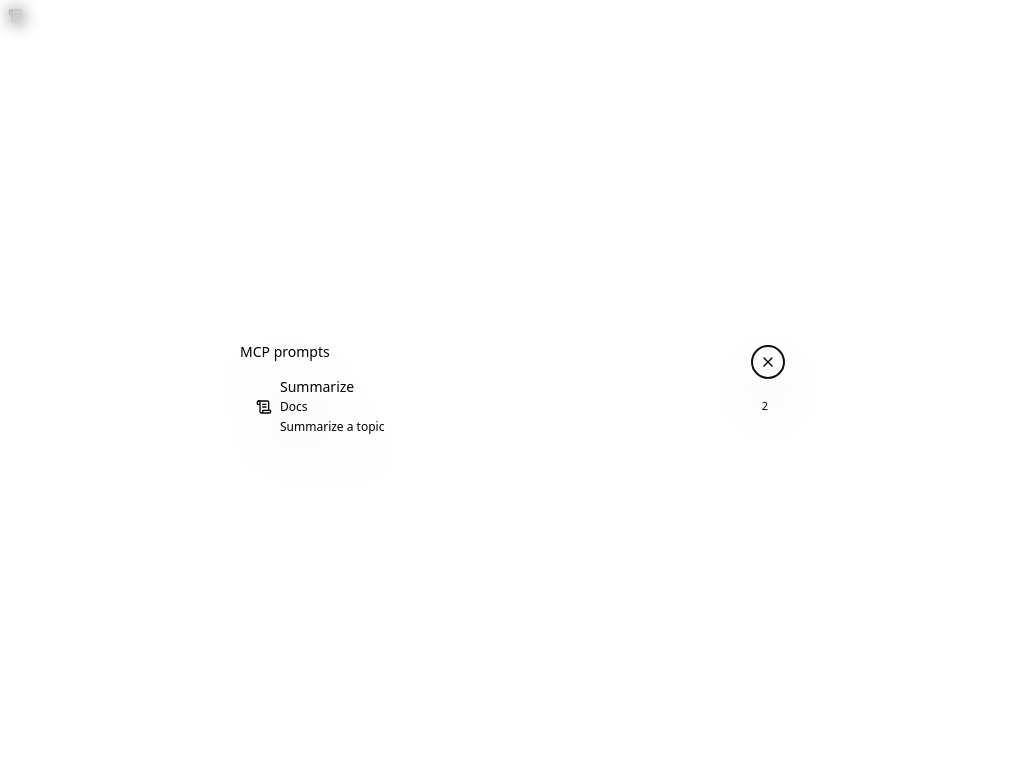
Test: MCP picker workflows › reports prompt resolution network failures without losing arguments
This screenshot has width=1024, height=768.
Step 1. Click the button "Summarize Docs Summarize a topic 2" → (264, 407), box [232, 382, 792, 430]
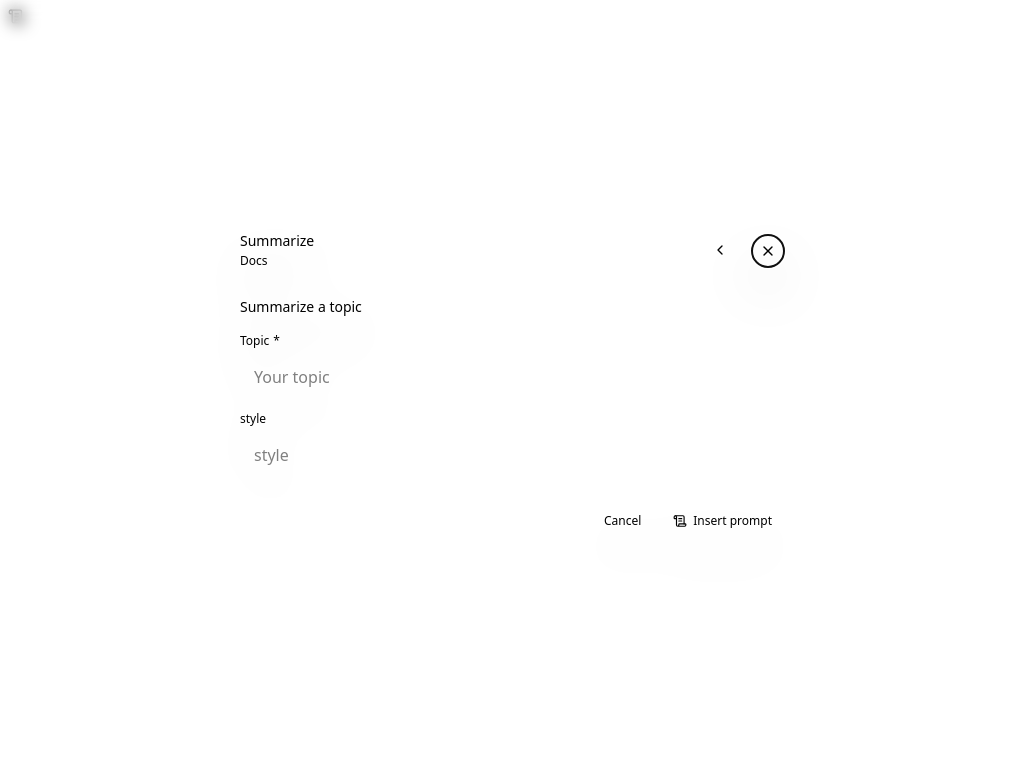
Step 2. Type "keep me" into the field labelled "Topic *" → (512, 377), box [240, 355, 784, 399]
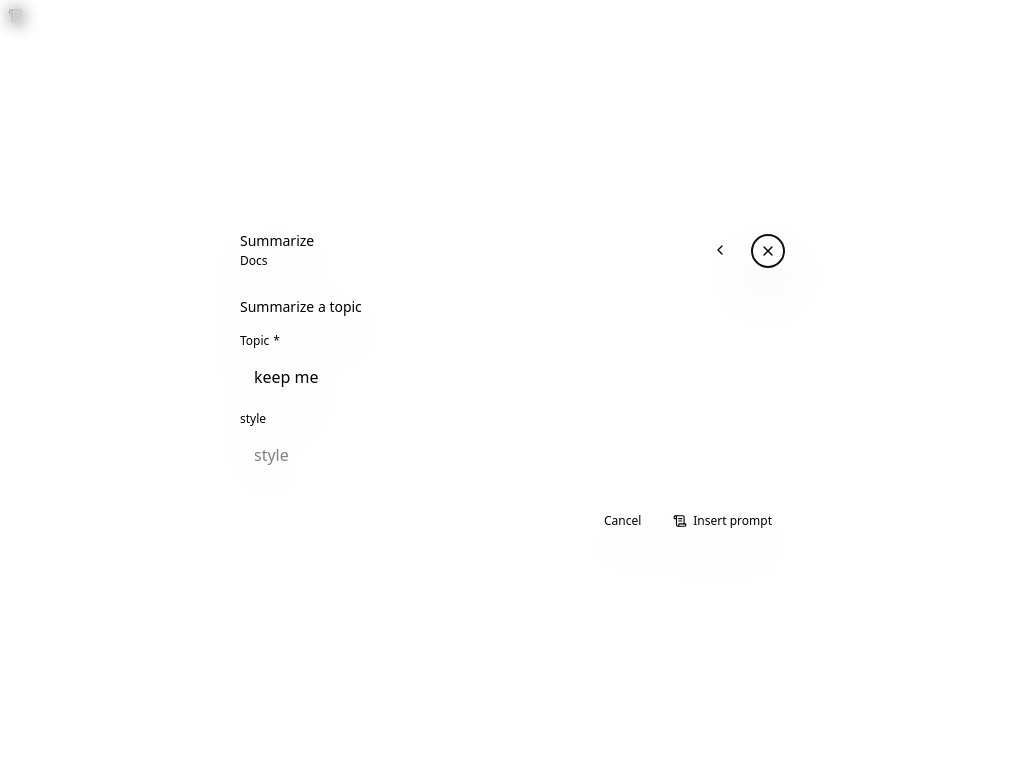
Step 3. Submit the form labelled "Summarize a topic Topic * style Cancel Insert prompt", box [224, 281, 800, 549]
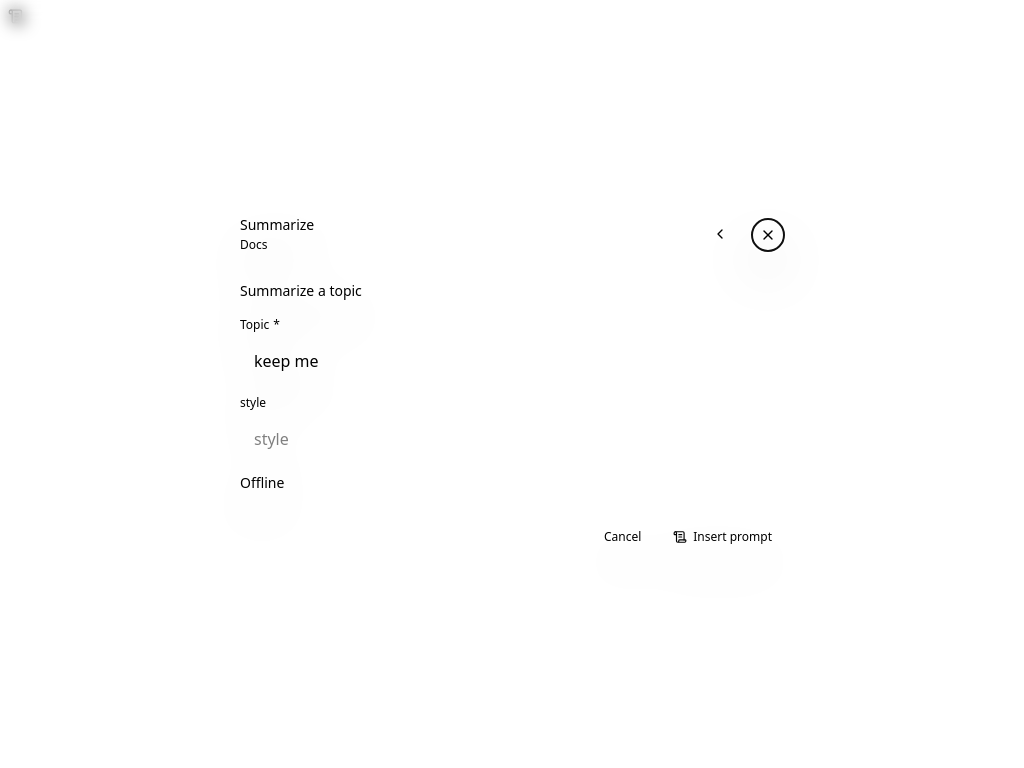
Result: the message "Offline" is shown at [240, 473, 284, 492]
